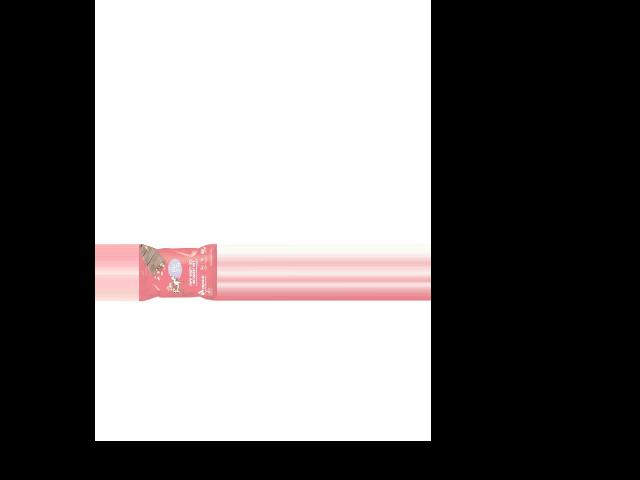chocolate: (139, 243, 217, 298)
